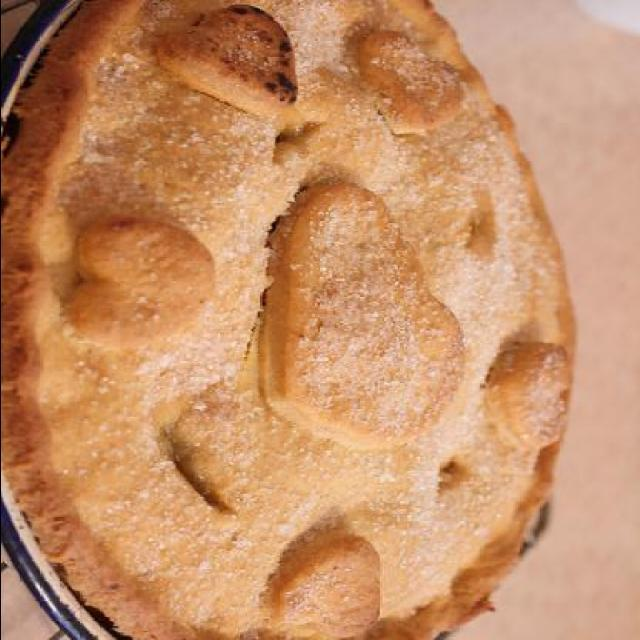Apple: (12, 14, 574, 637)
